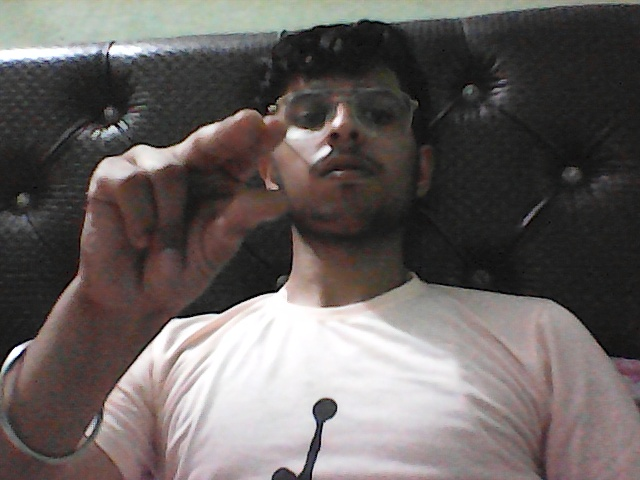no: (67, 100, 303, 298)
